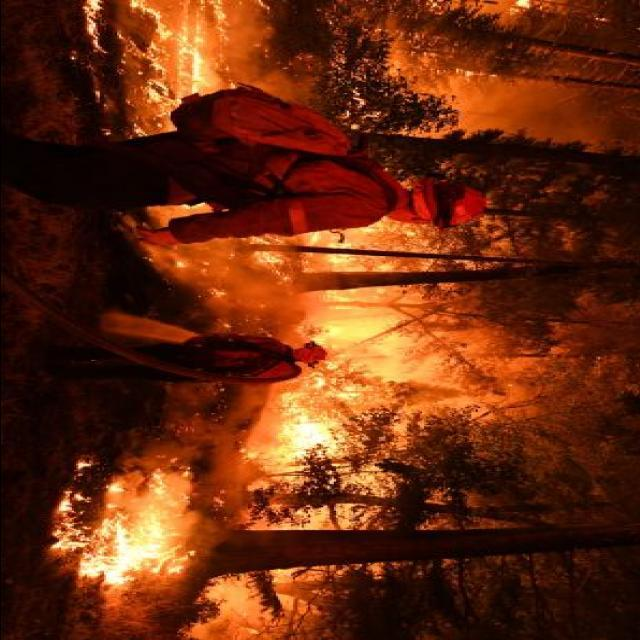Fire: (56, 5, 578, 621)
